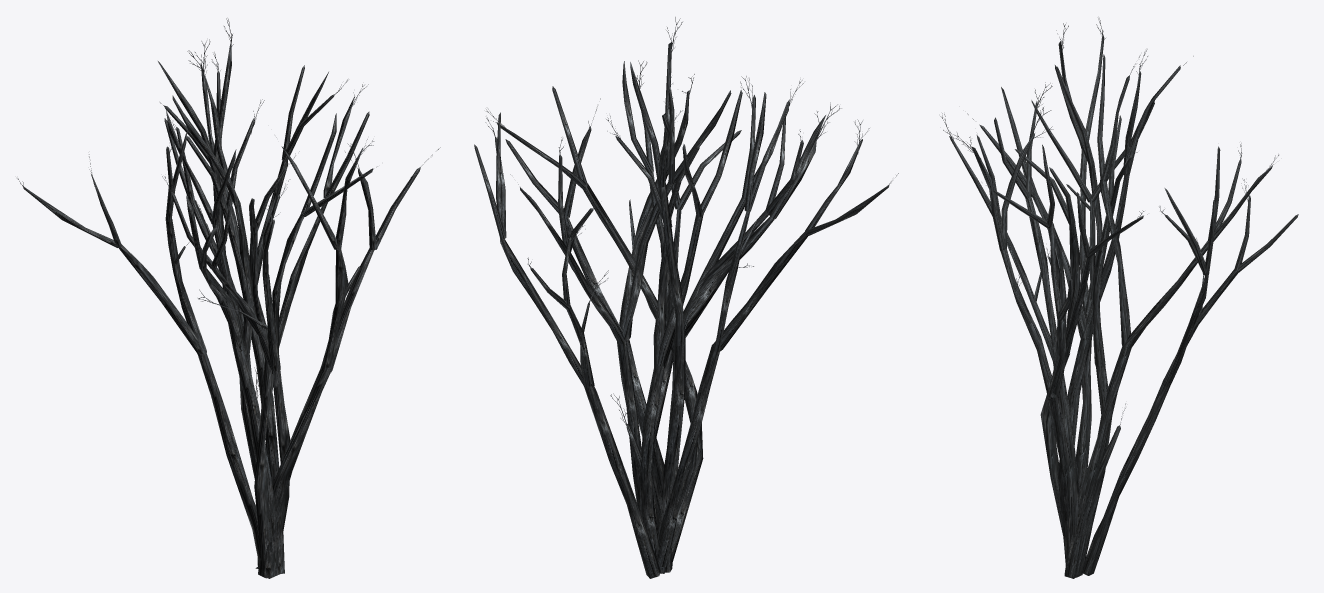
The model's file is mm6_deco_tree29.glb.
3 views of the same model, side by side, from view 1: azimuth 30°, elevation 25°; view 2: azimuth 150°, elevation 25°; view 3: azimuth 270°, elevation 25° (orthographic). The views are drawn at different scales.
Parts seen in each view (by area): view 1: Tree; view 2: Tree; view 3: Tree.
Boxes of the visible parts, x1,y1,x2,y2 form: Tree: (17, 18, 440, 578); Tree: (474, 17, 898, 578); Tree: (940, 18, 1298, 578).
Size of the model in its own units: 1.29 by 1.58 by 1.03.
2 materials, 2 textured.
